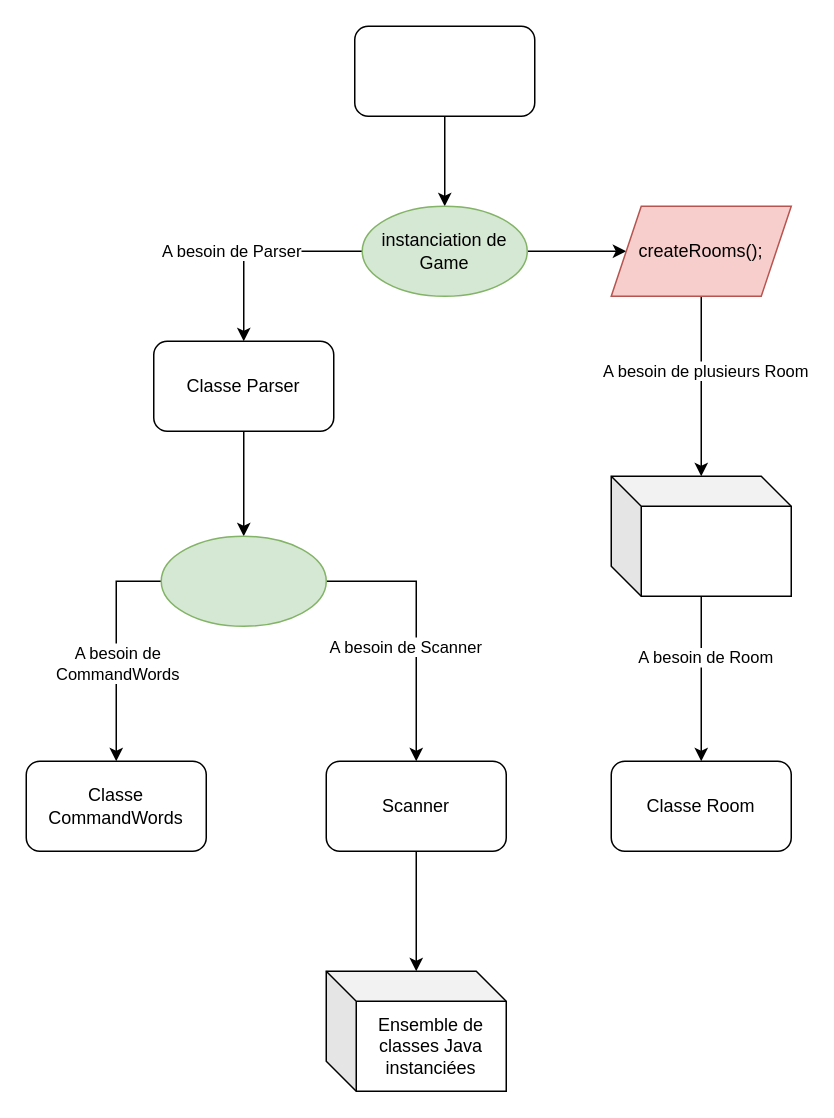
The diagram is 834 pixels wide and 1118 high, and some of its shapes have lost their labels. The shapes that lost their labels are listed below. From the top down, each one's box as (x1, y1, x2, y2) in pixels, then its label:
(353, 25, 535, 116): Classe Game
(610, 475, 791, 596): Ensemble de Classes Rooms
(160, 535, 326, 626): instanciation de Parser
